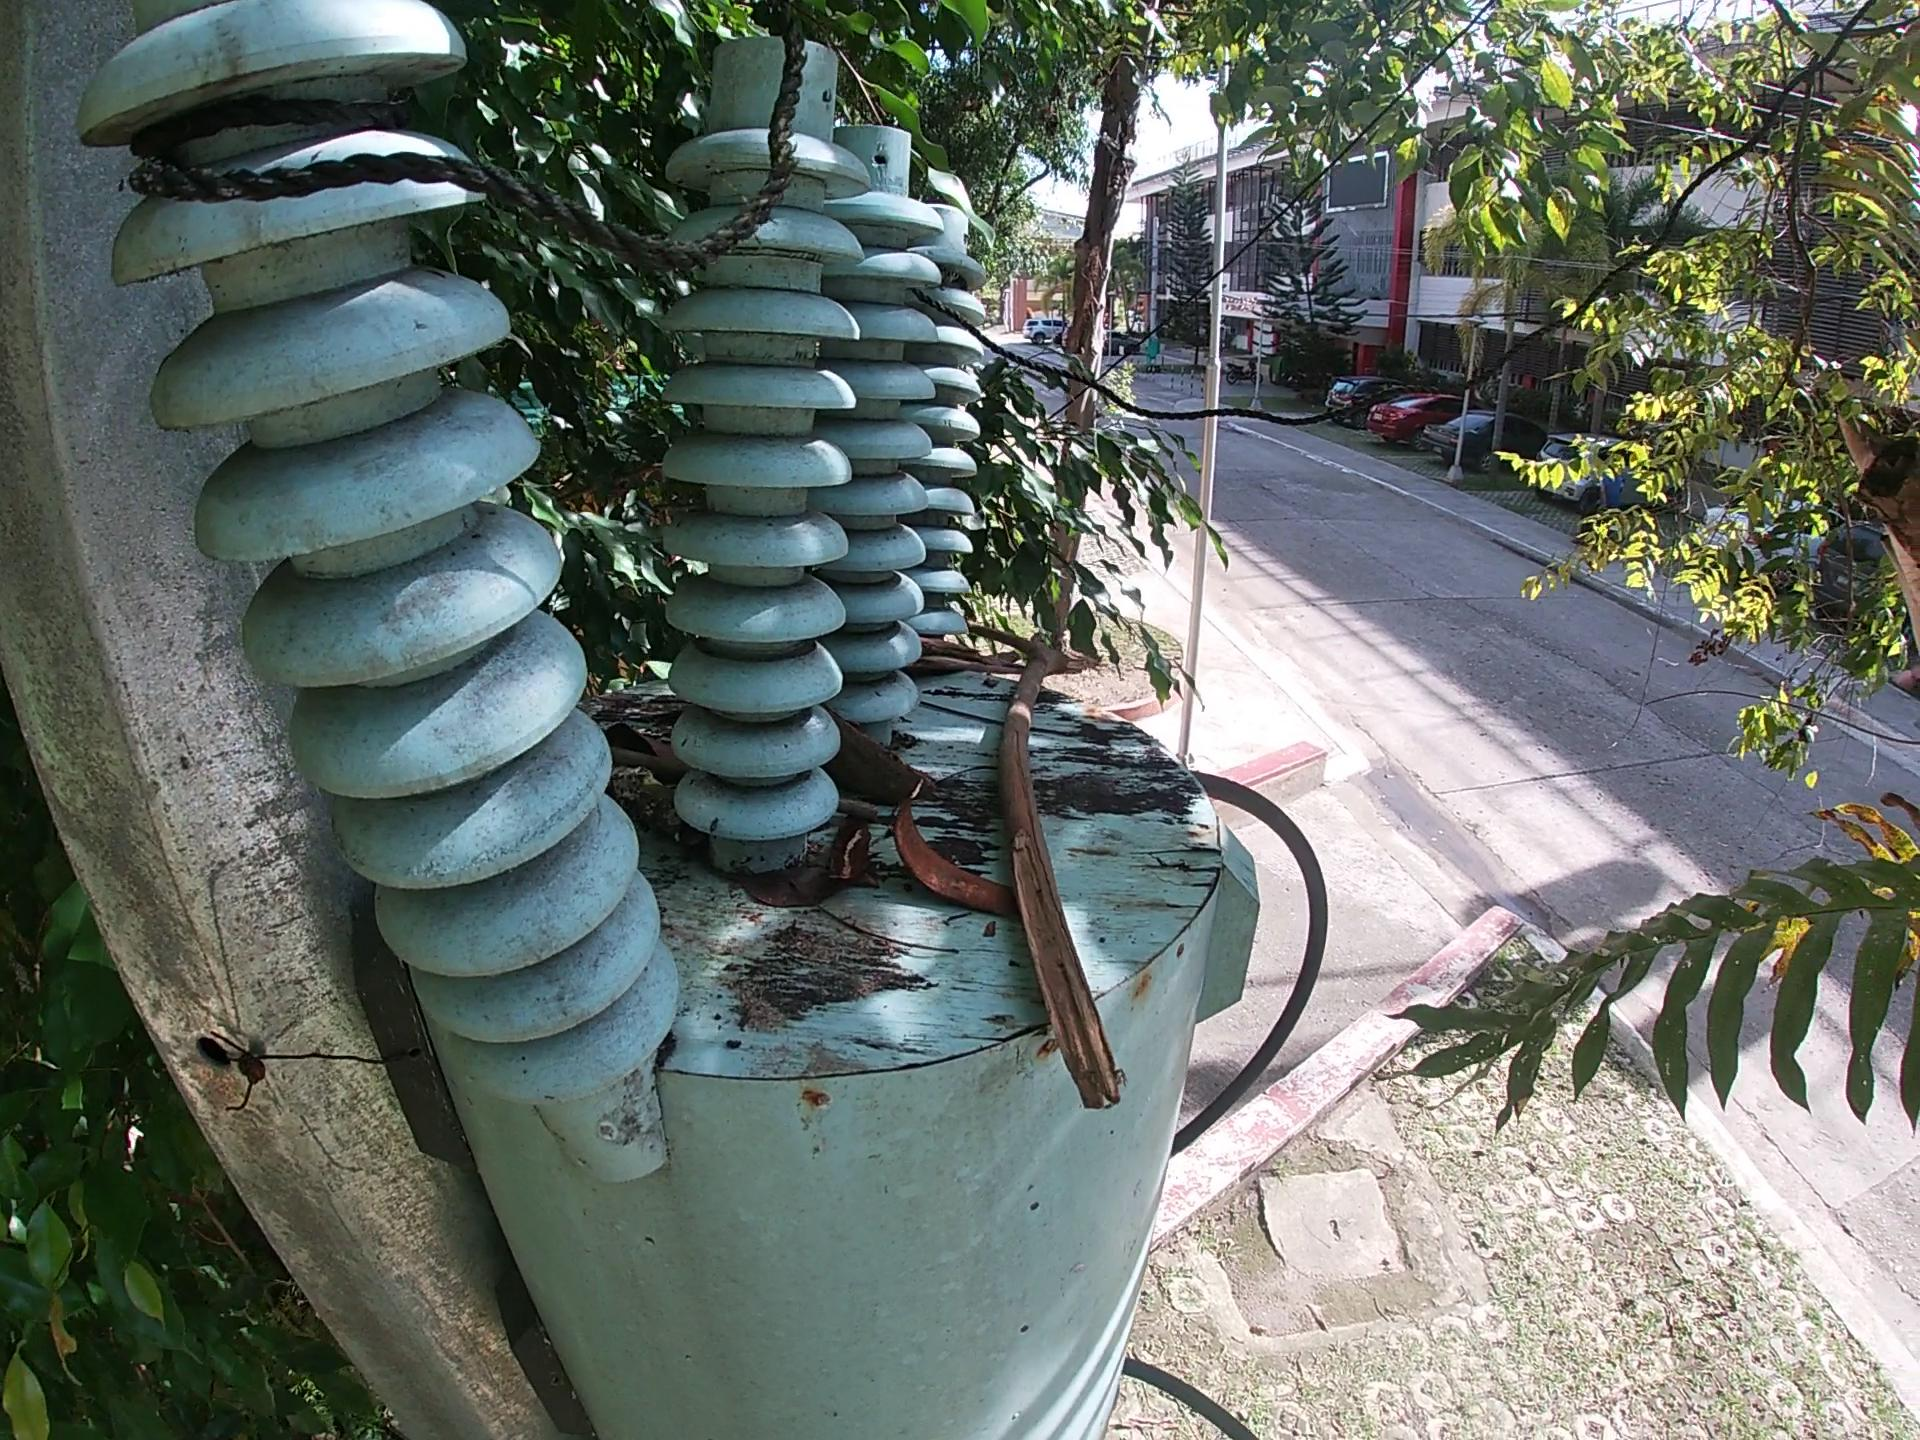leaf: (718, 867, 835, 918), (608, 720, 649, 753)
mahogany fruit: (887, 793, 1011, 926), (825, 728, 937, 799)
tree branch: (977, 619, 1126, 1144), (794, 908, 977, 961), (913, 626, 1023, 682), (605, 765, 683, 830), (830, 808, 872, 902), (1034, 723, 1129, 749), (921, 700, 993, 734), (605, 743, 682, 767), (844, 800, 893, 824)
